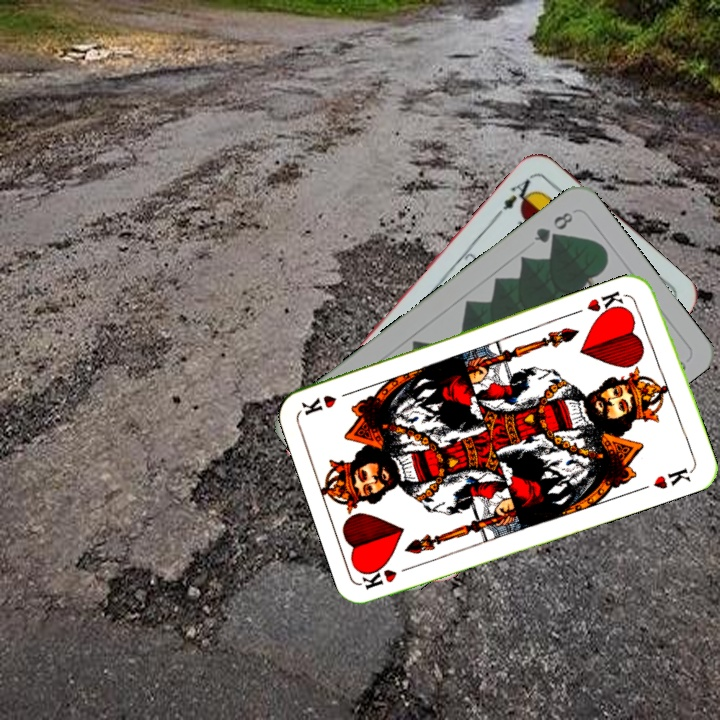EA: (498, 171, 539, 213)
G8: (530, 207, 576, 246)
HK: (358, 561, 418, 592), (583, 287, 628, 320)
